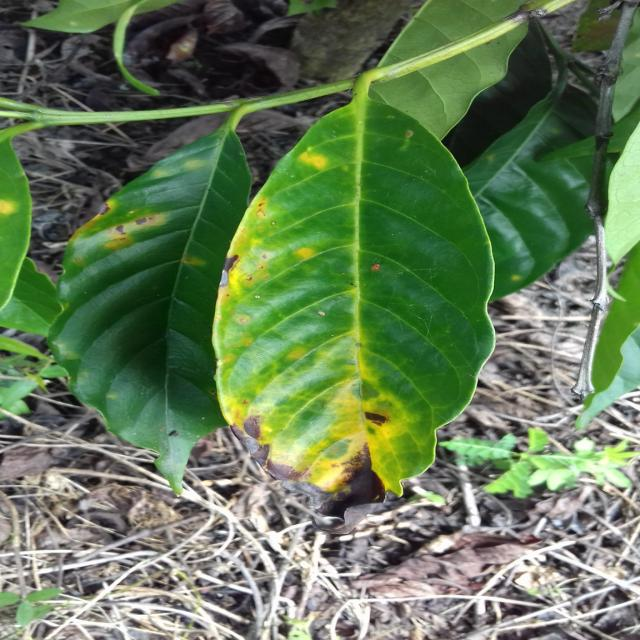Enfermedad-Roya: (213, 58, 499, 502)
